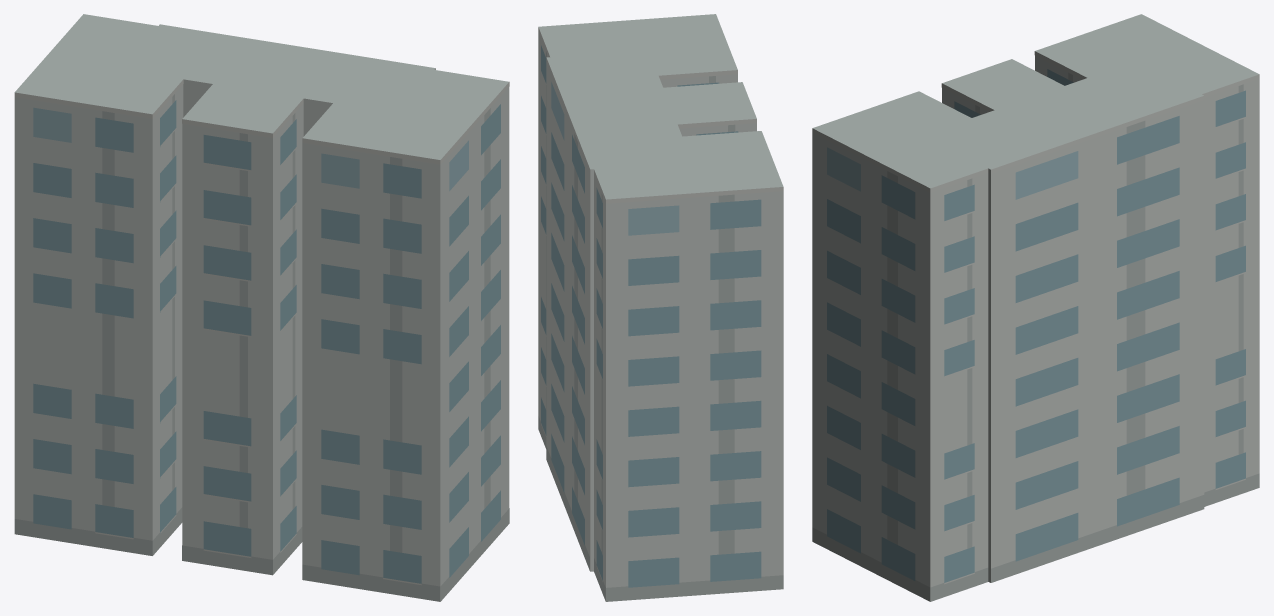
File: survey-upis-32742728.glb
The picture shows the model from 3 angles, left to right: view 1: azimuth 30°, elevation 25°; view 2: azimuth 150°, elevation 25°; view 3: azimuth 270°, elevation 25°; orthographic projection. The views are drawn at different scales.
Visible parts, largest first — view 1: survey-upis-32742728.tmp; view 2: survey-upis-32742728.tmp; view 3: survey-upis-32742728.tmp.
Boxes of the visible parts, left/top/right/bottom form: survey-upis-32742728.tmp: left=14, top=14, right=509, bottom=601; survey-upis-32742728.tmp: left=538, top=14, right=783, bottom=601; survey-upis-32742728.tmp: left=812, top=14, right=1259, bottom=601.
Size of the model in its own units: 20.55 by 22.7 by 22.26.
